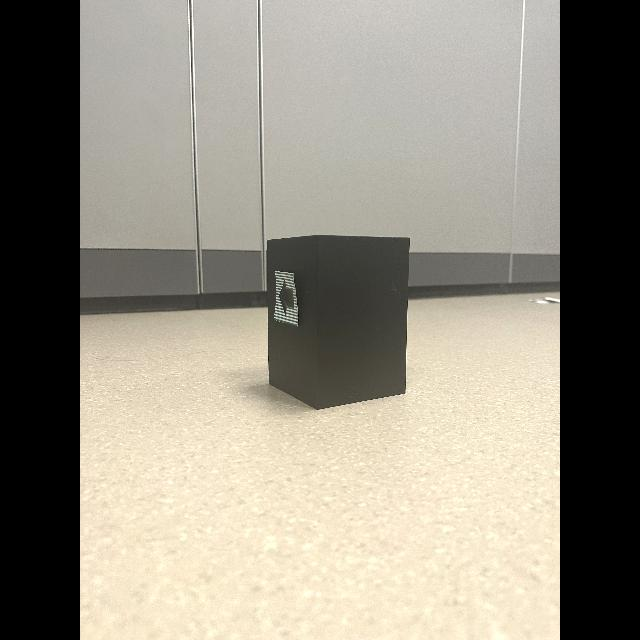LEFT: (278, 280, 294, 315)
